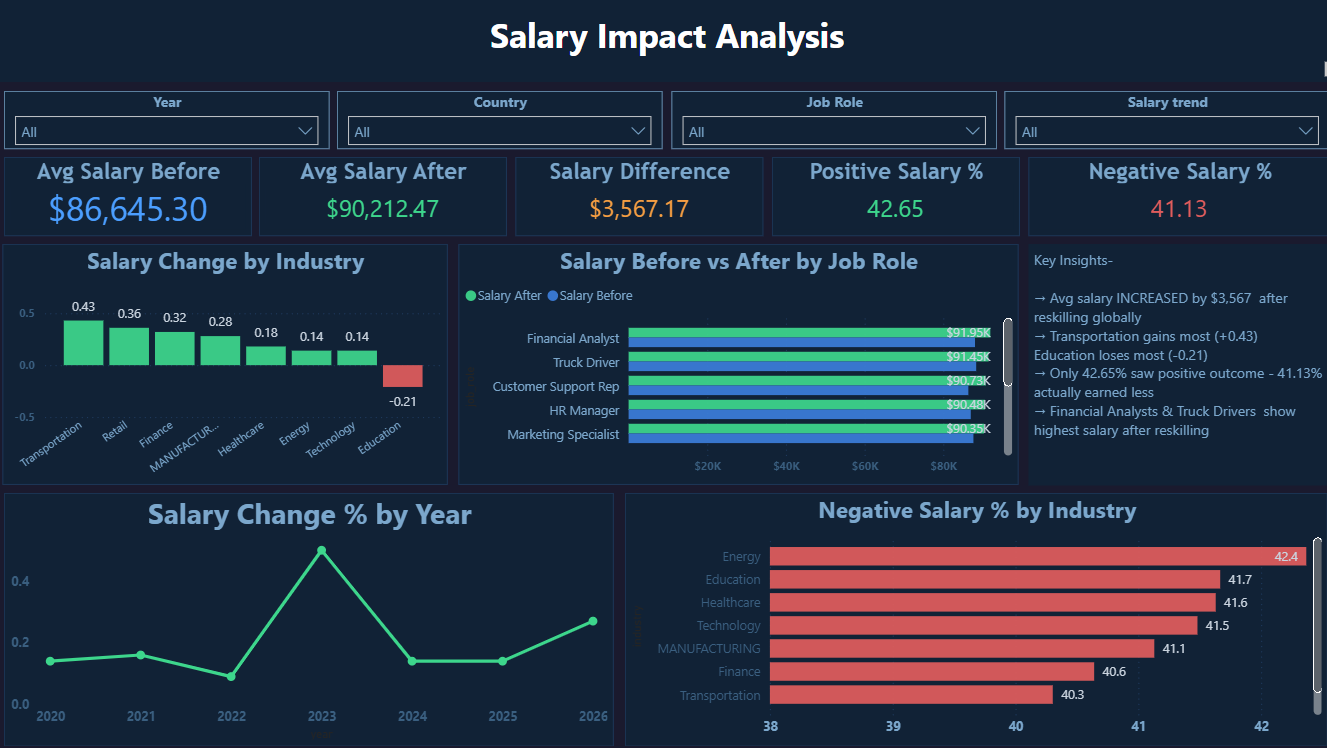

What the dashboard file says about the page in this screenshot:
{"tool":"powerbi","page":{"name":"Salary Analysis","canvas":[1280,720],"ordinal":2},"visuals":[{"type":"shape","box":[0,0,1280,120],"z":0,"group":"g1"},{"type":"cardVisual","title":"Avg Salary Before","fields":{"Data":["Measures Table.Avg Salary Before"]},"box":[0,250,261.4,100],"z":0},{"type":"textbox","box":[300,0,697.1,120],"z":1000,"group":"g1"},{"type":"donutChart","title":"Salary Trend Distribution","fields":{"Category":["ai_jobs_dirty.salary_trend"],"Y":["Measures Table.Total Jobs"]},"box":[814.3,362.9,465.7,134.3],"z":1000},{"type":"cardVisual","title":"Avg Salary After","fields":{"Data":["Measures Table.Avg Salary After"]},"box":[277.1,250,235.7,100],"z":2000},{"type":"treemap","title":" Reskilling Urgency Treemap","fields":{"Group":["ai_jobs_dirty.industry"],"Values":["Measures Table.Avg Reskilling Urgency"]},"box":[814.3,511.4,465.7,208.6],"z":3000},{"type":"cardVisual","title":" Salary Difference","fields":{"Data":["Measures Table.Salary Difference"]},"box":[528.6,250,232.9,100],"z":4000},{"type":"cardVisual","title":"Negative Salary %","fields":{"Data":["Measures Table.Negative Salary %"]},"box":[1018.6,250,261.4,100],"z":5000},{"type":"clusteredColumnChart","title":"Salary Change by Industry","fields":{"Category":["ai_jobs_dirty.industry"],"Y":["Measures Table.Avg Salary Change %"]},"box":[0,362.9,430,357.1],"z":6000},{"type":"cardVisual","title":"Positive Salary %","fields":{"Data":["Measures Table.Positive Salary %"]},"box":[772.9,250,235.7,100],"z":7000},{"type":"group","id":"g1","title":"Group 2","box":[0,0,1280,120],"z":8000},{"type":"slicer","title":"Year","fields":{"Values":["ai_jobs_dirty.year"]},"box":[0,130,332.9,107.1],"z":9000},{"type":"slicer","title":"Country","fields":{"Values":["ai_jobs_dirty.country"]},"box":[342.9,130,297.1,105.7],"z":10000},{"type":"slicer","title":"Job Role","fields":{"Values":["ai_jobs_dirty.job_role"]},"box":[648.6,131.4,331.4,107.1],"z":11000},{"type":"slicer","title":"Salary trend","fields":{"Values":["ai_jobs_dirty.salary_trend"]},"box":[997.1,128.6,282.9,107.1],"z":12000},{"type":"clusteredBarChart","title":"Salary Before vs After by Job Role","fields":{"Category":["ai_jobs_dirty.job_role"],"Y":["Measures Table.Chart Sal After","Measures Table.Chart Sal Before"]},"box":[442.9,362.9,360,357.1],"z":13000}]}

Visuals, with their boxes in screenshot pixels (x1, y1, x2, y2), scaled from the page's 1280x720 canvas onto the 1327x748 screenshot:
shape: <box>0,0,1326,125</box>
"Avg Salary Before" cardVisual: <box>0,260,271,364</box>
textbox: <box>311,0,1034,125</box>
"Salary Trend Distribution" donutChart: <box>844,377,1326,517</box>
"Avg Salary After" cardVisual: <box>287,260,532,364</box>
" Reskilling Urgency Treemap" treemap: <box>844,531,1326,747</box>
" Salary Difference" cardVisual: <box>548,260,789,364</box>
"Negative Salary %" cardVisual: <box>1056,260,1326,364</box>
"Salary Change by Industry" clusteredColumnChart: <box>0,377,446,747</box>
"Positive Salary %" cardVisual: <box>801,260,1046,364</box>
"Group 2" group: <box>0,0,1326,125</box>
"Year" slicer: <box>0,135,345,246</box>
"Country" slicer: <box>355,135,664,245</box>
"Job Role" slicer: <box>672,137,1016,248</box>
"Salary trend" slicer: <box>1034,134,1326,245</box>
"Salary Before vs After by Job Role" clusteredBarChart: <box>459,377,832,747</box>
